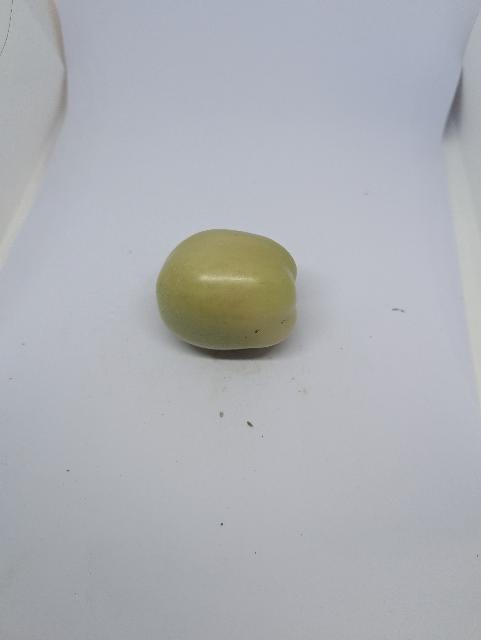breaker: (154, 227, 300, 352)
